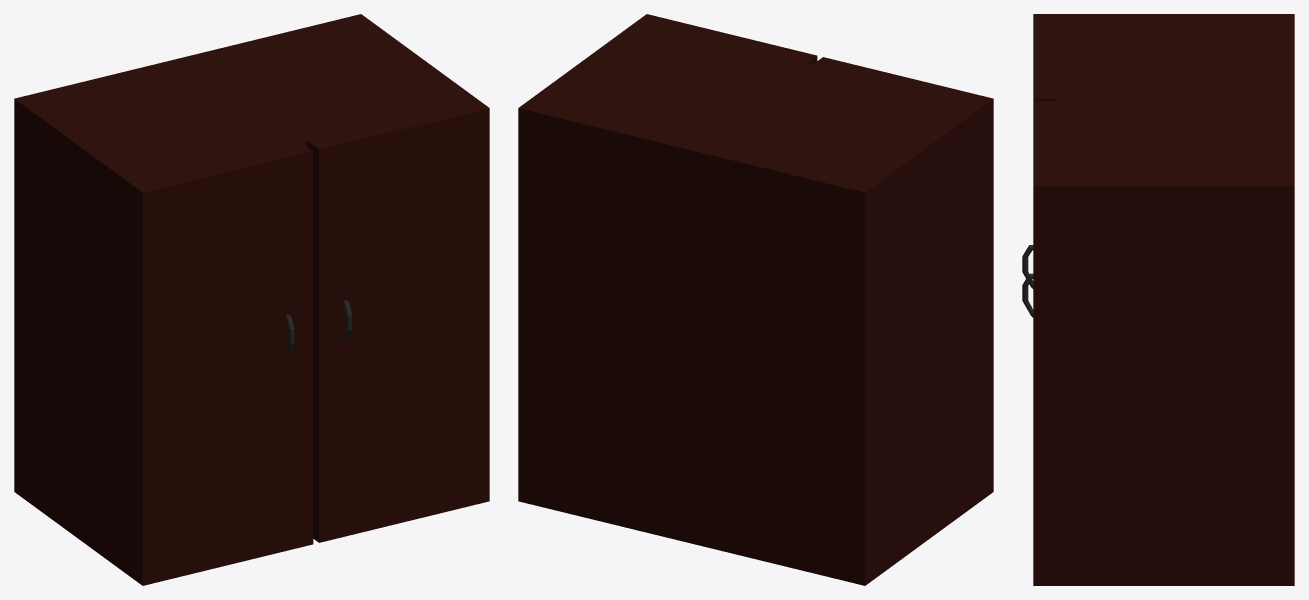
File: armarioCocina.FBX
The picture shows the model from 3 angles, left to right: view 1: azimuth 30°, elevation 25°; view 2: azimuth 150°, elevation 25°; view 3: azimuth 270°, elevation 25°; orthographic projection.
Visible parts, largest first — view 1: Torus; view 2: Torus; view 3: Torus.
Boxes of the visible parts, x1,y1,x2,y2 form: Torus: [14, 14, 489, 585]; Torus: [518, 14, 993, 585]; Torus: [1022, 14, 1294, 585].
Bounding box in the file's own units: 472 × 512 × 316.
